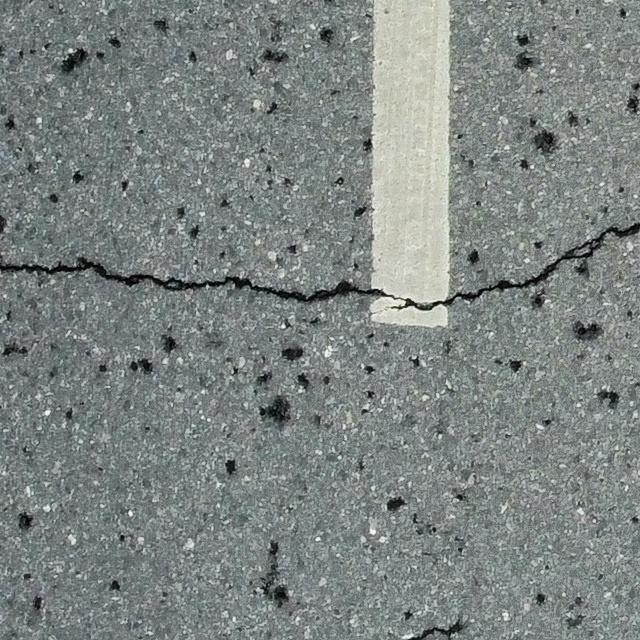TransverseCrack: (1, 220, 640, 312)
